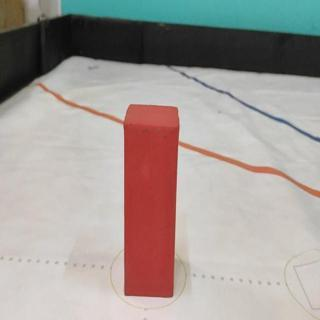redbox: (123, 103, 180, 296)
